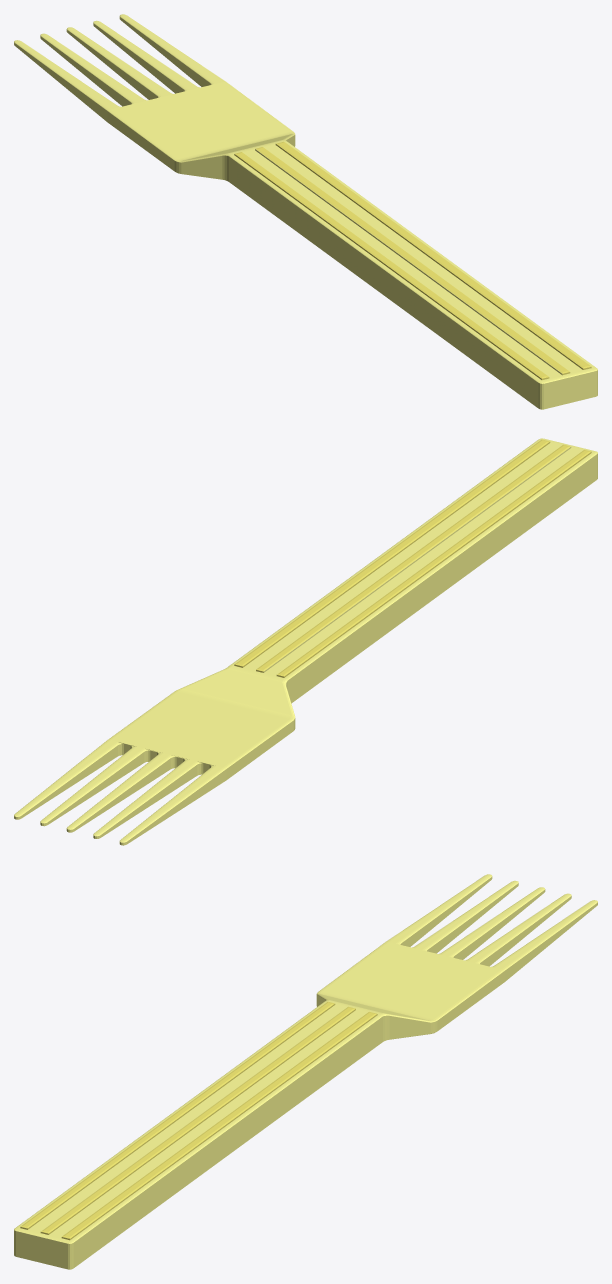
The model's file is Spoon1.fbx.
The picture shows the model from 3 angles, top to bottom: view 1: azimuth 30°, elevation 25°; view 2: azimuth 150°, elevation 25°; view 3: azimuth 330°, elevation 25°; orthographic projection.
Parts seen in each view (by area): view 1: Circle1.001; view 2: Circle1.001; view 3: Circle1.001.
Boxes of the visible parts, <box> form: Circle1.001: <box>14,14,597,409</box>; Circle1.001: <box>14,438,597,845</box>; Circle1.001: <box>14,874,597,1269</box>.
Bounding box in the file's own units: 127 × 926 × 31.04.
Materials: 1 (1 with a texture image).
